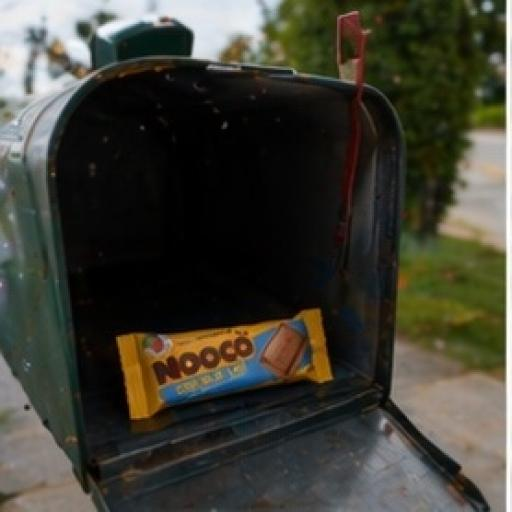nooco: (30, 273, 386, 429)
